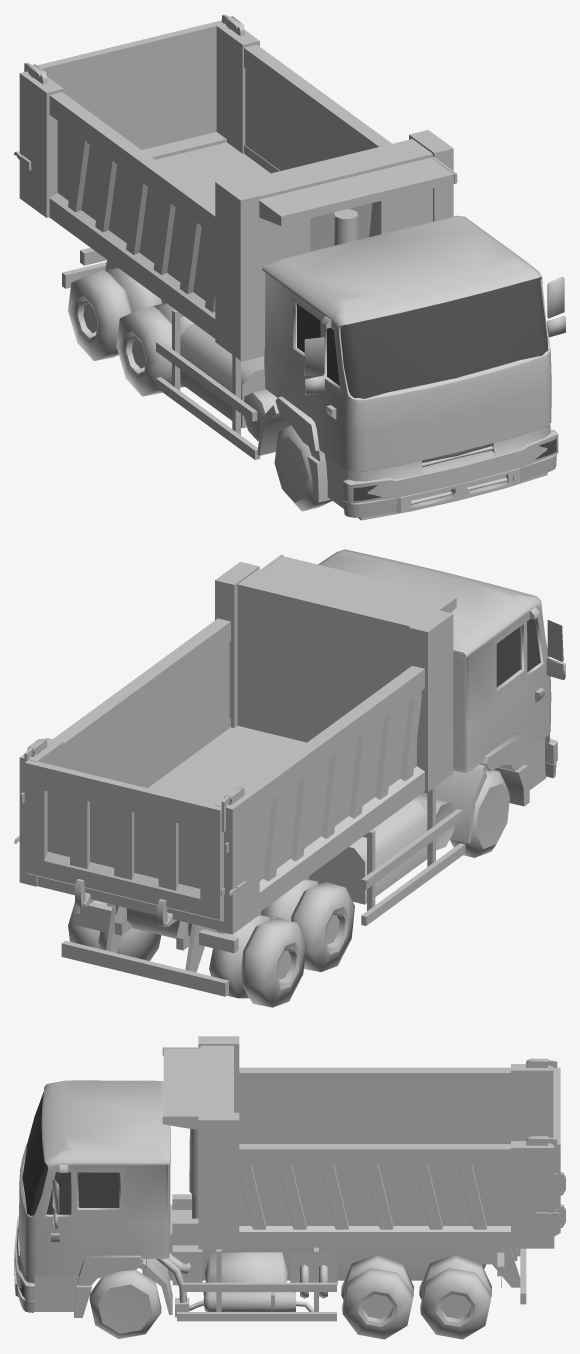
File: TipperDumpTruck_LOD2.FBX
3 views of the same model, one above another, from view 1: azimuth 30°, elevation 25°; view 2: azimuth 150°, elevation 25°; view 3: azimuth 270°, elevation 25° (orthographic). The views are drawn at different scales.
Parts seen in each view (by area): view 1: Body_LOD2, Windows_LOD2; view 2: Body_LOD2, Windows_LOD2; view 3: Body_LOD2, Windows_LOD2.
Boxes of the visible parts, <box> form: Body_LOD2: <box>14,14,565,520</box>; Windows_LOD2: <box>296,278,556,501</box>; Body_LOD2: <box>14,549,565,1007</box>; Windows_LOD2: <box>496,619,540,687</box>; Body_LOD2: <box>14,1036,565,1339</box>; Windows_LOD2: <box>19,1092,119,1296</box>.
Bounding box in the file's own units: 5.68 × 5.82 × 12.98.
